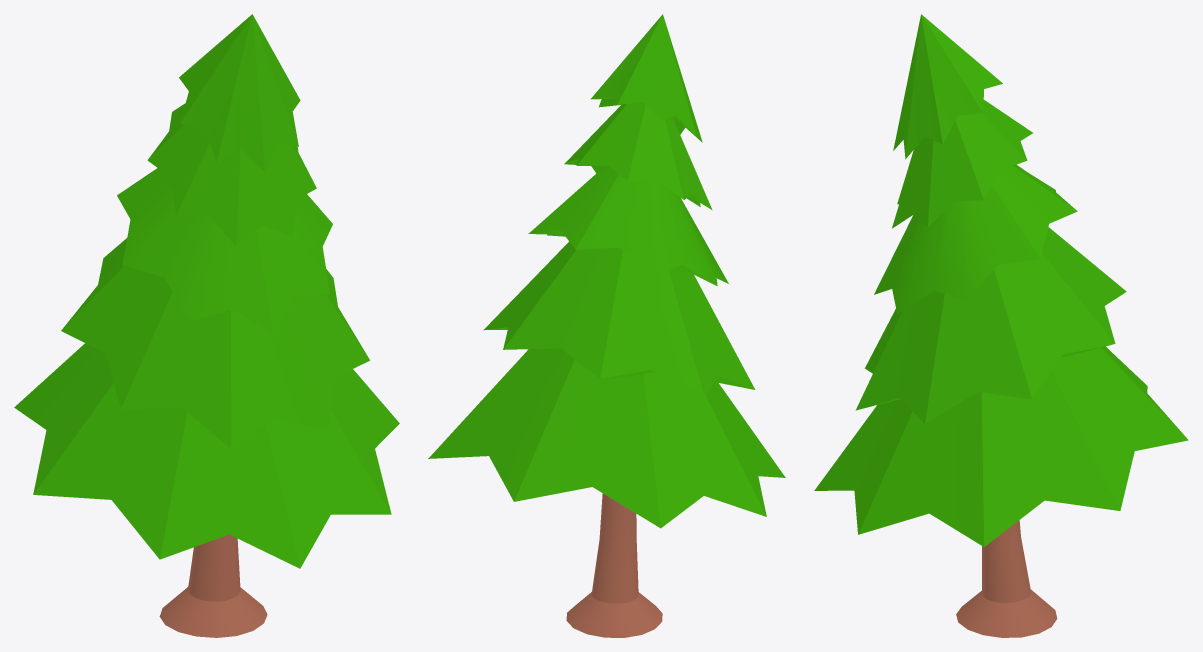
Rendered from object_106_lev1.glb.
3 views of the same model, side by side, from view 1: azimuth 30°, elevation 25°; view 2: azimuth 150°, elevation 25°; view 3: azimuth 270°, elevation 25° (orthographic). The views are drawn at different scales.
Parts seen in each view (by area): view 1: object_106_lev1; view 2: object_106_lev1; view 3: object_106_lev1.
Boxes of the visible parts, left/top/right/bottom form: object_106_lev1: left=14, top=14, right=399, bottom=637; object_106_lev1: left=428, top=14, right=785, bottom=637; object_106_lev1: left=814, top=14, right=1188, bottom=637.
Bounding box in the file's own units: 0.7219 × 1.26 × 0.7147.
1 material, 1 textured.
